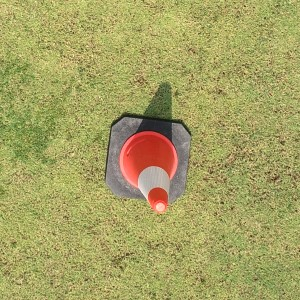traffic cone: (104, 115, 190, 212)
